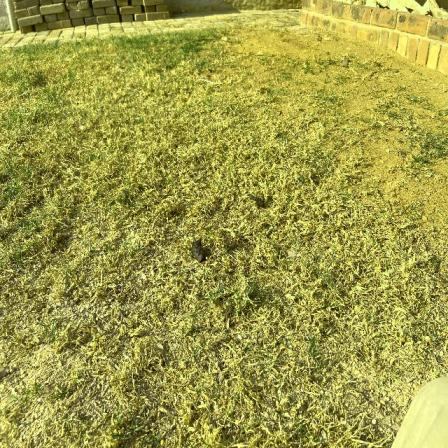dog-poop: (243, 185, 278, 217), (189, 236, 211, 267)
